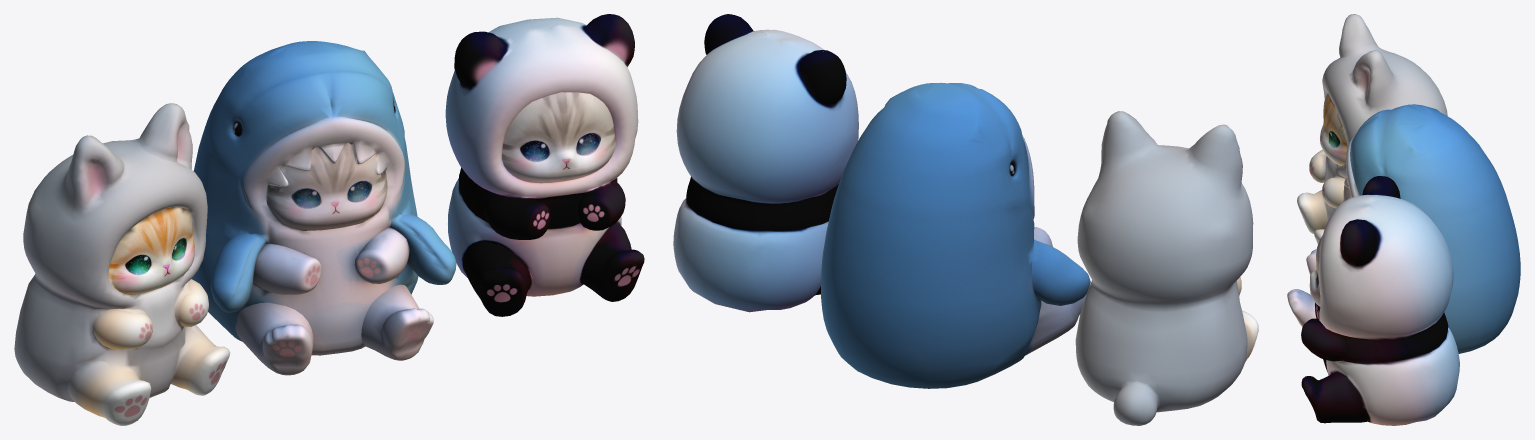
File: cats.glb
The picture shows the model from 3 angles, left to right: view 1: azimuth 30°, elevation 25°; view 2: azimuth 150°, elevation 25°; view 3: azimuth 270°, elevation 25°; orthographic projection. The views are drawn at different scales.
Visible parts, largest first — view 1: shark_2, panda_0, cat_1; view 2: shark_2, cat_1, panda_0; view 3: panda_0, shark_2, cat_1.
Part boxes in pixels (x1=…): shark_2: x1=191, y1=41, x2=456, y2=375; panda_0: x1=445, y1=14, x2=644, y2=316; cat_1: x1=14, y1=103, x2=230, y2=425; shark_2: x1=821, y1=82, x2=1091, y2=388; cat_1: x1=1075, y1=111, x2=1258, y2=425; panda_0: x1=673, y1=14, x2=858, y2=312; panda_0: x1=1301, y1=176, x2=1459, y2=425; shark_2: x1=1287, y1=104, x2=1520, y2=353; cat_1: x1=1297, y1=14, x2=1447, y2=243.
Bounding box in the file's own units: 2.35 × 1.04 × 1.03.
3 materials, 3 textured.
